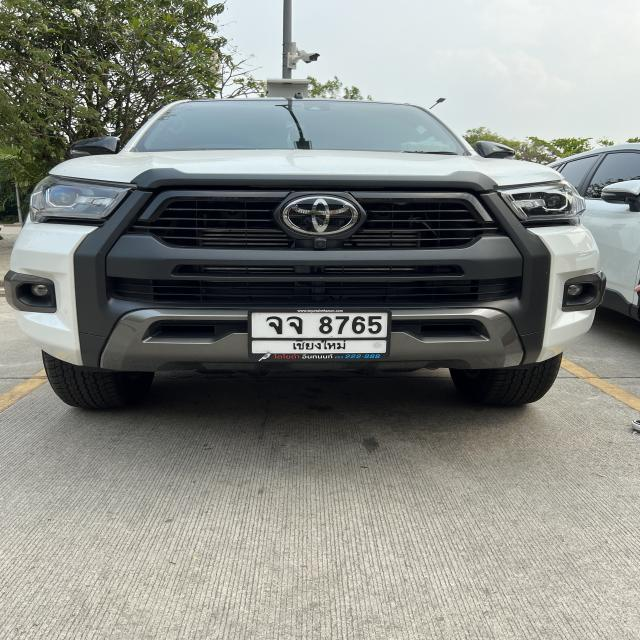license_plate: (245, 306, 393, 364)
